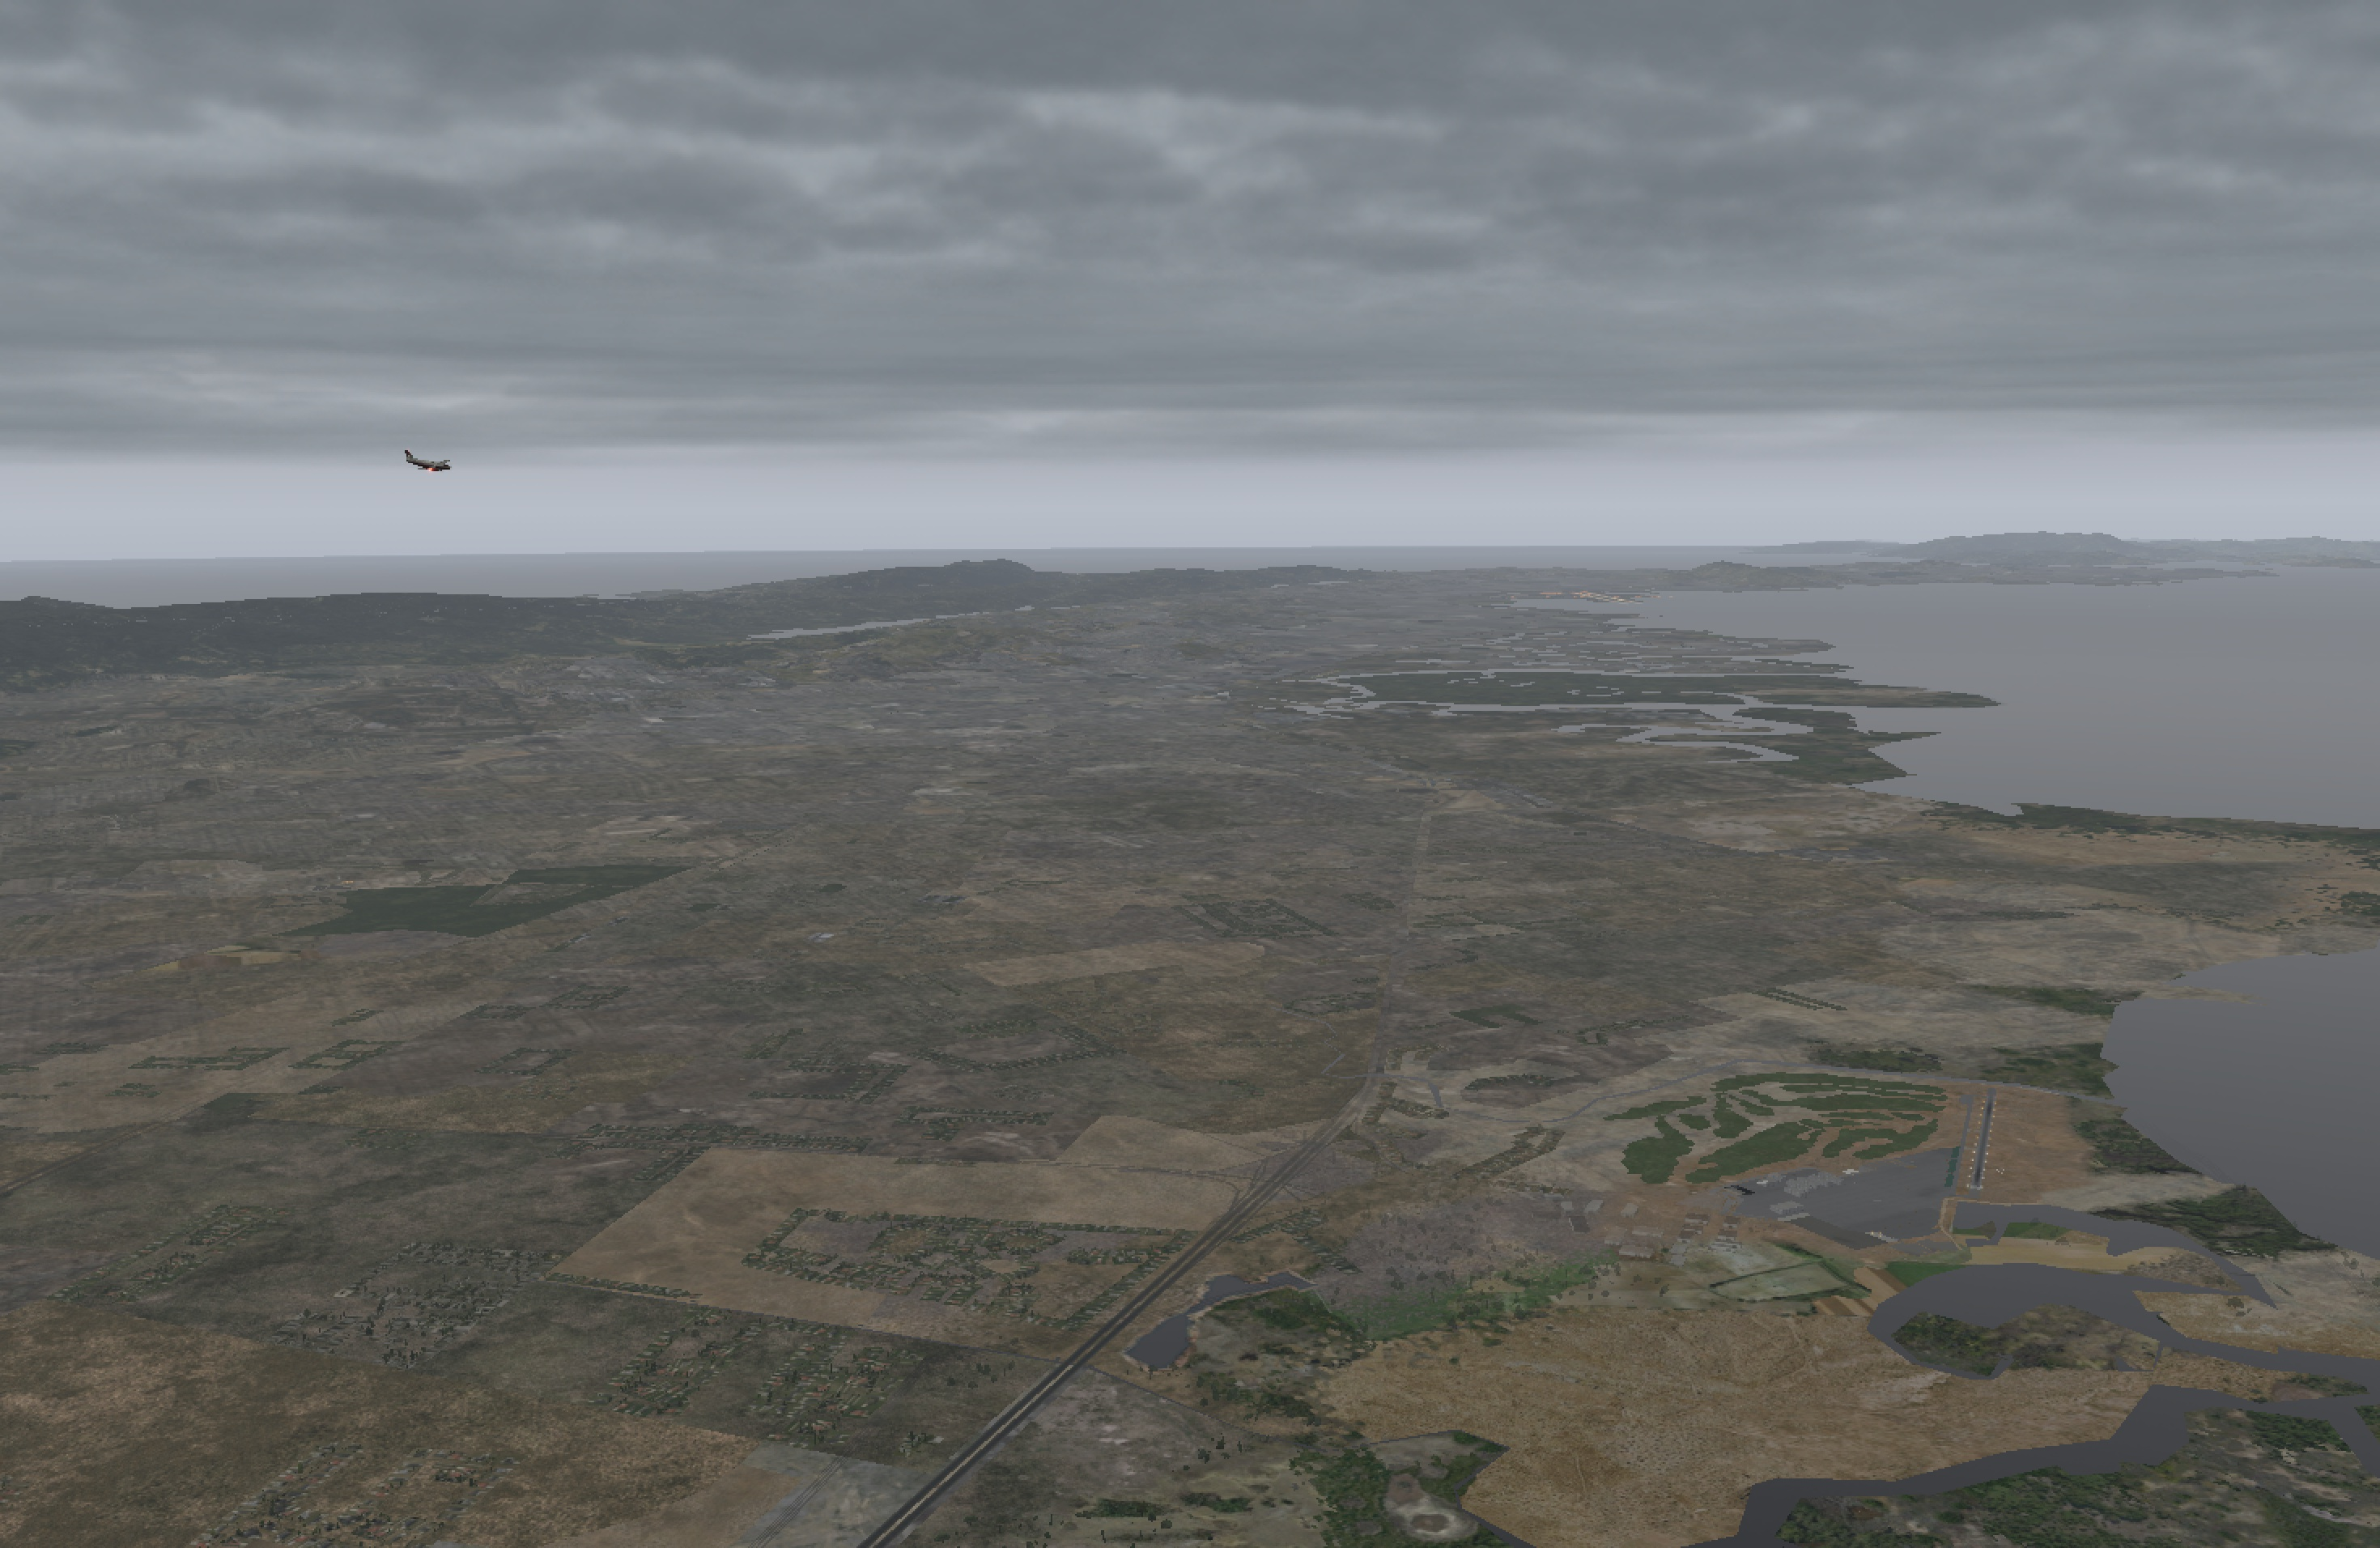aircraft: (404, 456, 467, 481)
